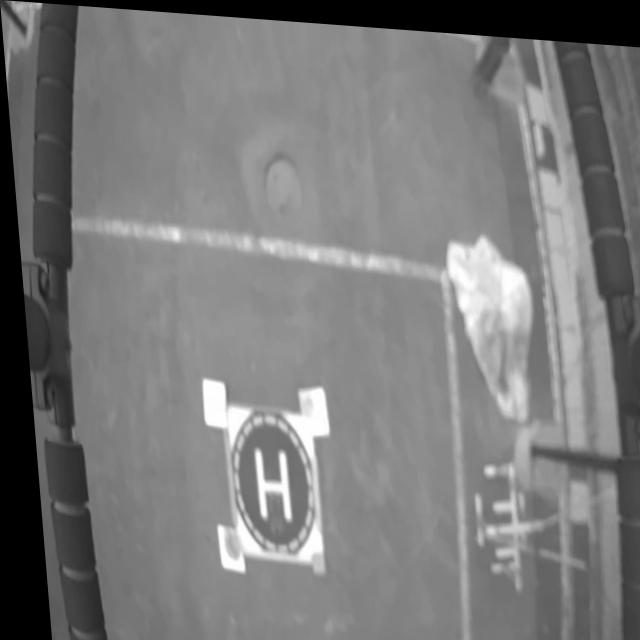Helipad: (246, 444, 284, 518)
